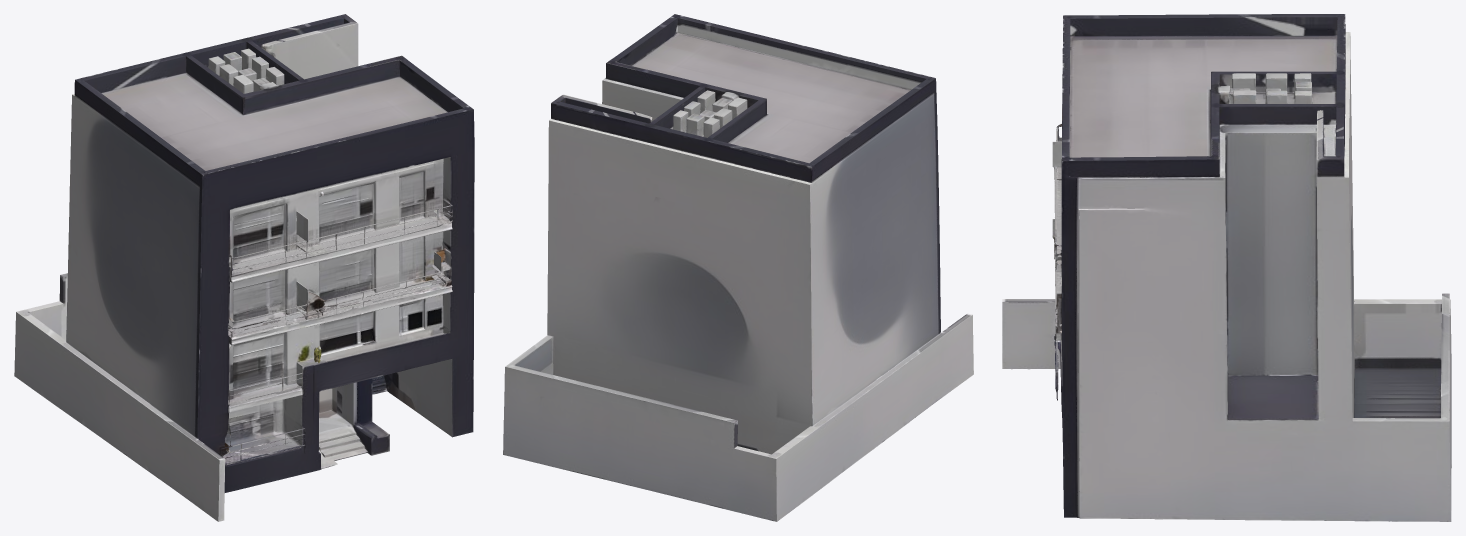
Rendered from res_contemporary.glb.
3 views of the same model, side by side, from view 1: azimuth 30°, elevation 25°; view 2: azimuth 150°, elevation 25°; view 3: azimuth 270°, elevation 25° (orthographic). The views are drawn at different scales.
Parts seen in each view (by area): view 1: Object_3, Object_4, Object_2; view 2: Object_3, Object_4, Object_2; view 3: Object_3, Object_4, Object_2.
Boxes of the visible parts, x1,y1,x2,y2 form: Object_3: (28,14,474,484); Object_4: (14,18,452,521); Object_2: (23,42,467,479); Object_3: (503,14,931,521); Object_4: (503,18,973,521); Object_2: (551,39,960,488); Object_3: (1054,14,1451,521); Object_4: (1002,14,1451,474); Object_2: (1009,35,1433,509).
Bounding box in the file's own units: 19.31 × 21.62 × 24.
1 material, 1 textured.
